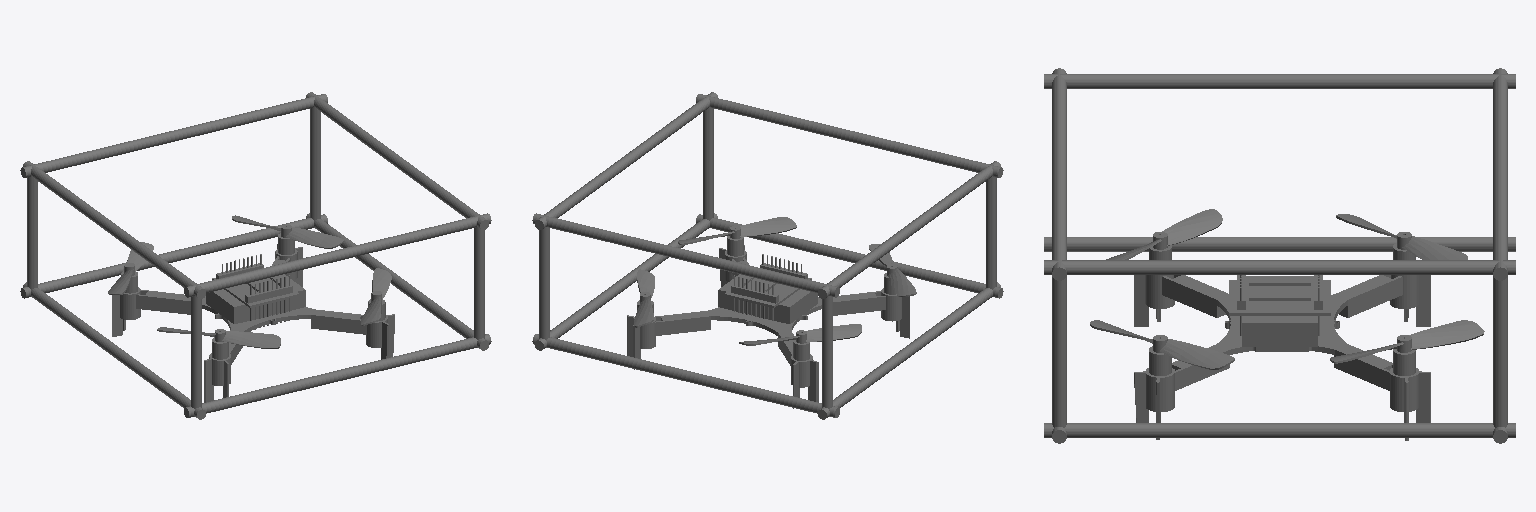
robot.urdf — cf2:
<?xml version="1.0" ?>

<robot name="cf2">

  <properties arm="0.0397" kf="3.16e-10" km="7.94e-12" thrust2weight="2.25" max_speed_kmh="30" gnd_eff_coeff="11.36859" prop_radius="2.31348e-2" drag_coeff_xy="9.1785e-7" drag_coeff_z="10.311e-7" dw_coeff_1="2267.18" dw_coeff_2=".16" dw_coeff_3="-.11" />

  <link name="base_link"> 

    <inertial>
      <origin rpy="0 0 0" xyz="0 0 0"/>
      <mass value="0.034"/>
      <inertia ixx="4.134e-5" ixy="0.0" ixz="0.0" iyy="4.134e-5" iyz="0.0" izz="7.043e-5"/>
    </inertial>

    <!-- links>
      <carlos url="https://arxiv.org/pdf/1608.05786.pdf" />
      <julian url="http://mikehamer.info/assets/papers/Crazyflie%20Modelling.pdf" />
      <mit url="http://groups.csail.mit.edu/robotics-center/public_papers/Landry15.pdf" />
    </links -->

    <visual>
      <origin rpy="0 0 0" xyz="0 0 0"/>
      <geometry>
        <mesh filename="./cf2.dae" scale=" 1 1 1"/>
      </geometry> 
      <material name="grey">
        <color rgba=".5 .5 .5 1"/>
      </material> 
    </visual>

    <collision>
      <origin rpy="0 0 0" xyz="-0.059 -0.059 0"/>
      <geometry>
        <box size="0.118 0.118 0.048"/>
      </geometry>
    </collision>  

  </link>

  <link name="prop0_link">
    <inertial>
      <origin rpy="0 0 0" xyz="0.0397 0 0"/>
      <mass value="0"/>
      <inertia ixx="0" ixy="0" ixz="0" iyy="0" iyz="0" izz="0"/>
    </inertial>
  </link>
  <joint name="prop0_joint" type="fixed">
    <parent link="base_link"/>
    <child link="prop0_link"/>
  </joint>

  <link name="prop1_link">
    <inertial>
      <origin rpy="0 0 0" xyz="0 0.0397 0"/>
      <mass value="0"/>
      <inertia ixx="0" ixy="0" ixz="0" iyy="0" iyz="0" izz="0"/>
    </inertial>
  </link>
  <joint name="prop1_joint" type="fixed">
    <parent link="base_link"/>
    <child link="prop1_link"/>
  </joint>

  <link name="prop2_link">
    <inertial>
      <origin rpy="0 0 0" xyz="-0.0397 0 0"/>
      <mass value="0"/>
      <inertia ixx="0" ixy="0" ixz="0" iyy="0" iyz="0" izz="0"/>
    </inertial>
  </link>
  <joint name="prop2_joint" type="fixed">
    <parent link="base_link"/>
    <child link="prop2_link"/>
  </joint>

  <link name="prop3_link">
    <inertial>
      <origin rpy="0 0 0" xyz="0 -0.0397 0"/>
      <mass value="0"/>
      <inertia ixx="0" ixy="0" ixz="0" iyy="0" iyz="0" izz="0"/>
    </inertial>
  </link>
  <joint name="prop3_joint" type="fixed">
    <parent link="base_link"/>
    <child link="prop3_link"/>
  </joint>

  <link name="center_of_mass_link">
    <inertial>
      <origin rpy="0 0 0" xyz="0 0 0"/>
      <mass value="0"/>
	  <properties />
      <inertia ixx="0" ixy="0" ixz="0" iyy="0" iyz="0" izz="0"/>
    </inertial>
  </link>
  <joint name="center_of_mass_joint" type="fixed">
    <parent link="base_link"/>
    <child link="center_of_mass_link"/>
  </joint>
  <!-- number 5 -->
  <link name="magnet1_link">
    <properties magnet_xyz = "0 -0.1 0" />
    <inertial>
      <origin rpy="0 0 0" xyz="0.055 0.059 0"/>
      <mass value="0"/>
      <inertia ixx="0" ixy="0.0" ixz="0.0" iyy="0" iyz="0.0" izz="0"/>
    </inertial>
  </link>
  <joint name="magnet1_joint" type="fixed">
    <parent link="base_link"/>
    <child link="magnet1_link"/>
  </joint>
  
  <link name="magnet2_link">
  <properties magnet_xyz = "0 -0.1 0" />
    <inertial>
      <origin rpy="0 0 0" xyz="0.055 -0.059 0"/>
      <mass value="0"/>
      <inertia ixx="0" ixy="0.0" ixz="0.0" iyy="0" iyz="0.0" izz="0"/>
    </inertial>
  </link>
  <joint name="magnet2_joint" type="fixed">
    <parent link="base_link"/>
    <child link="magnet2_link"/>
  </joint>
  
    <link name="magnet3_link">
  <properties magnet_xyz = "0 0.1 0" />
    <inertial>
      <origin rpy="0 0 0" xyz="-0.055 0.059 0"/>
      <mass value="0"/>
      <inertia ixx="0" ixy="0.0" ixz="0.0" iyy="0" iyz="0.0" izz="0"/>
    </inertial>
  </link>
  <joint name="magnet3_joint" type="fixed">
    <parent link="base_link"/>
    <child link="magnet3_link"/>
  </joint>
  
   <link name="magnet4_link">
  <properties magnet_xyz = "0 0.1 0" />
    <inertial>
      <origin rpy="0 0 0" xyz="-0.055 -0.059 0"/>
      <mass value="0"/>
      <inertia ixx="0" ixy="0.0" ixz="0.0" iyy="0" iyz="0.0" izz="0"/>
    </inertial>
  </link>
  <joint name="magnet4_joint" type="fixed">
    <parent link="base_link"/>
    <child link="magnet4_link"/>
  </joint>
  
  <link name="magnet5_link">
    <properties magnet_xyz = "0 0.1 0" />
    <inertial>
      <origin rpy="0 0 0" xyz="0.055 0.059 0.048"/>
      <mass value="0"/>
      <inertia ixx="0" ixy="0.0" ixz="0.0" iyy="0" iyz="0.0" izz="0"/>
    </inertial>
  </link>
  <joint name="magnet5_joint" type="fixed">
    <parent link="base_link"/>
    <child link="magnet5_link"/>
  </joint>
  
  <link name="magnet6_link">
  <properties magnet_xyz = "0 0.1 0" />
    <inertial>
      <origin rpy="0 0 0" xyz="0.055 -0.059 0.048"/>
      <mass value="0"/>
      <inertia ixx="0" ixy="0.0" ixz="0.0" iyy="0" iyz="0.0" izz="0"/>
    </inertial>
  </link>
  <joint name="magnet6_joint" type="fixed">
    <parent link="base_link"/>
    <child link="magnet6_link"/>
  </joint>
  
    <link name="magnet7_link">
  <properties magnet_xyz = "0 -0.1 0" />
    <inertial>
      <origin rpy="0 0 0" xyz="-0.055 0.059 0.048"/>
      <mass value="0"/>
      <inertia ixx="0" ixy="0.0" ixz="0.0" iyy="0" iyz="0.0" izz="0"/>
    </inertial>
  </link>
  <joint name="magnet7_joint" type="fixed">
    <parent link="base_link"/>
    <child link="magnet7_link"/>
  </joint>
  
  <link name="magnet8_link">
  <properties magnet_xyz = "0 -0.1 0" />
    <inertial>
      <origin rpy="0 0 0" xyz="-0.055 -0.059 0.048"/>
      <mass value="0"/>
      <inertia ixx="0" ixy="0.0" ixz="0.0" iyy="0" iyz="0.0" izz="0"/>
    </inertial>
  </link>
  <joint name="magnet8_joint" type="fixed">
    <parent link="base_link"/>
    <child link="magnet8_link"/>
  </joint>
  
  
  <link name="magnet9_link">
    <properties magnet_xyz = "0.1 0 0" />
    <inertial>
      <origin rpy="0 0 0" xyz="0.059 0.055 0"/>
      <mass value="0"/>
      <inertia ixx="0" ixy="0.0" ixz="0.0" iyy="0" iyz="0.0" izz="0"/>
    </inertial>
  </link>
  <joint name="magnet9_joint" type="fixed">
    <parent link="base_link"/>
    <child link="magnet9_link"/>
  </joint>
  
  <link name="magnet10_link">
  <properties magnet_xyz = "-0.1 0 0" />
    <inertial>
      <origin rpy="0 0 0" xyz="0.059 -0.055 0"/>
      <mass value="0"/>
      <inertia ixx="0" ixy="0.0" ixz="0.0" iyy="0" iyz="0.0" izz="0"/>
    </inertial>
  </link>
  <joint name="magnet10_joint" type="fixed">
    <parent link="base_link"/>
    <child link="magnet10_link"/>
  </joint>
  
    <link name="magnet11_link">
  <properties magnet_xyz = "0.1 0 0" />
    <inertial>
      <origin rpy="0 0 0" xyz="-0.059 0.055 0"/>
      <mass value="0"/>
      <inertia ixx="0" ixy="0.0" ixz="0.0" iyy="0" iyz="0.0" izz="0"/>
    </inertial>
  </link>
  <joint name="magnet11_joint" type="fixed">
    <parent link="base_link"/>
    <child link="magnet11_link"/>
  </joint>
  
   <link name="magnet12_link">
  <properties magnet_xyz = "-0.1 0 0" />
    <inertial>
      <origin rpy="0 0 0" xyz="-0.059 -0.055 0"/>
      <mass value="0"/>
      <inertia ixx="0" ixy="0.0" ixz="0.0" iyy="0" iyz="0.0" izz="0"/>
    </inertial>
  </link>
  <joint name="magnet12_joint" type="fixed">
    <parent link="base_link"/>
    <child link="magnet12_link"/>
  </joint>
  
  <link name="magnet13_link">
    <properties magnet_xyz = "-0.1 0 0" />
    <inertial>
      <origin rpy="0 0 0" xyz="0.059 0.055 0.048"/>
      <mass value="0"/>
      <inertia ixx="0" ixy="0.0" ixz="0.0" iyy="0" iyz="0.0" izz="0"/>
    </inertial>
  </link>
  <joint name="magnet13_joint" type="fixed">
    <parent link="base_link"/>
    <child link="magnet13_link"/>
  </joint>
  
  <link name="magnet14_link">
  <properties magnet_xyz = "0.1 0 0" />
    <inertial>
      <origin rpy="0 0 0" xyz="0.059 -0.055 0.048"/>
      <mass value="0"/>
      <inertia ixx="0" ixy="0.0" ixz="0.0" iyy="0" iyz="0.0" izz="0"/>
    </inertial>
  </link>
  <joint name="magnet14_joint" type="fixed">
    <parent link="base_link"/>
    <child link="magnet14_link"/>
  </joint>
  
    <link name="magnet15_link">
  <properties magnet_xyz = "-0.1 0 0" />
    <inertial>
      <origin rpy="0 0 0" xyz="-0.059 0.055 0.048"/>
      <mass value="0"/>
      <inertia ixx="0" ixy="0.0" ixz="0.0" iyy="0" iyz="0.0" izz="0"/>
    </inertial>
  </link>
  <joint name="magnet15_joint" type="fixed">
    <parent link="base_link"/>
    <child link="magnet15_link"/>
  </joint>
  
  <link name="magnet16_link">
  <properties magnet_xyz = "0.1 0 0" />
    <inertial>
      <origin rpy="0 0 0" xyz="-0.059 -0.055 0.048"/>
      <mass value="0"/>
      <inertia ixx="0" ixy="0.0" ixz="0.0" iyy="0" iyz="0.0" izz="0"/>
    </inertial>
  </link>
  <joint name="magnet16_joint" type="fixed">
    <parent link="base_link"/>
    <child link="magnet16_link"/>
  </joint>

</robot>

--- Facts derived from the render (not from the file) ---
Views: 3 orthographic renders of the robot side by side, from view 1: azimuth 30°, elevation 25°; view 2: azimuth 150°, elevation 25°; view 3: azimuth 270°, elevation 25°.
Model cf2 with 22 links and 21 joints (21 fixed), rooted at base_link, posed every joint at zero.
Links seen in each view (by area): view 1: base_link; view 2: base_link; view 3: base_link.
Boxes of the visible links, box(x1,y1,x2,y2) form: base_link: box(20, 92, 491, 419); base_link: box(532, 92, 1003, 419); base_link: box(1044, 68, 1515, 443).
Bounding box of the posed robot: 0.126 × 0.126 × 0.0625 m (x, y, z).
1 mesh visuals loaded from 1 distinct referenced files (1 Collada DAE).
